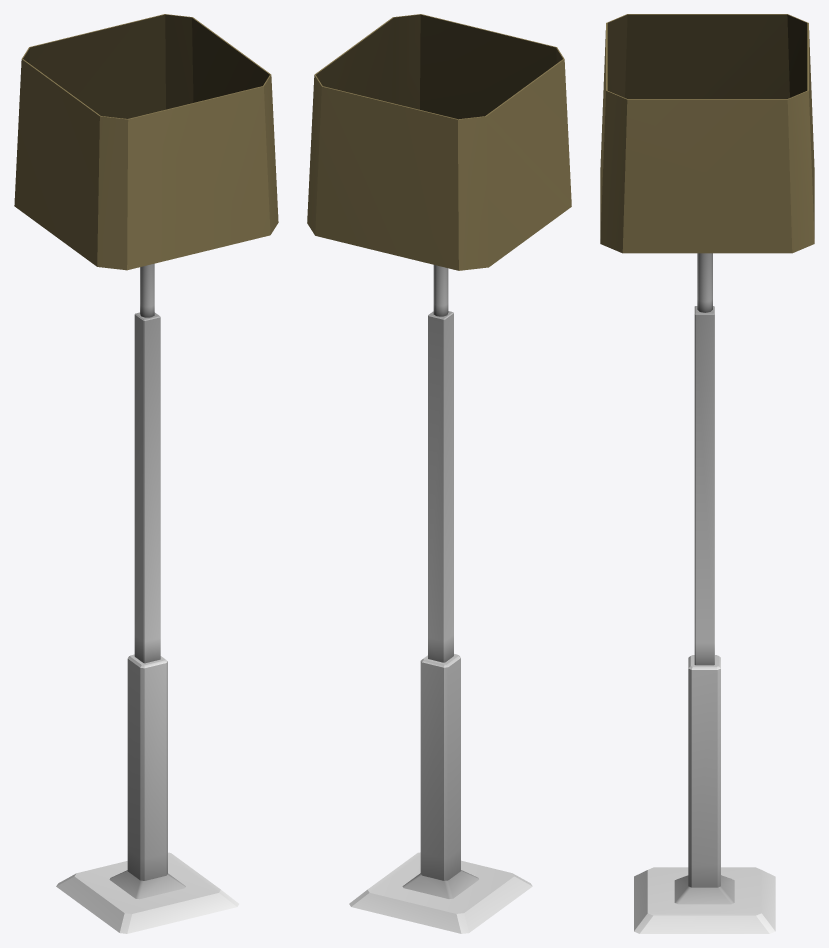
Rendered from floorlamp02.fbx.
3 renders of one model, left to right at view 1: azimuth 30°, elevation 25°; view 2: azimuth 150°, elevation 25°; view 3: azimuth 270°, elevation 25°, orthographic. The views are drawn at different scales.
Visible parts, largest first — view 1: floorlamp02(Clone); view 2: floorlamp02(Clone); view 3: floorlamp02(Clone).
Part boxes in pixels (x1=…): floorlamp02(Clone): x1=14, y1=14, x2=278, y2=933; floorlamp02(Clone): x1=307, y1=14, x2=571, y2=933; floorlamp02(Clone): x1=600, y1=14, x2=814, y2=933.
Bounding box in the file's own units: 0.3712 × 1.62 × 0.3712.
